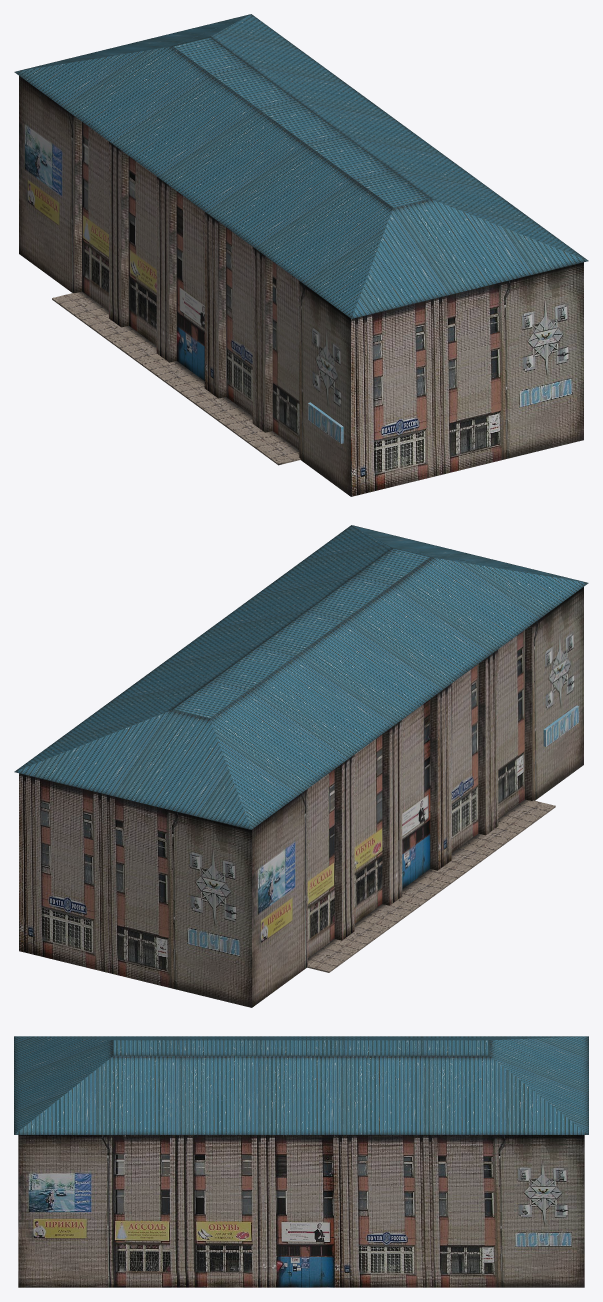
The model's file is sibir_poshta.FBX.
The picture shows the model from 3 angles, top to bottom: view 1: azimuth 30°, elevation 25°; view 2: azimuth 150°, elevation 25°; view 3: azimuth 270°, elevation 25°; orthographic projection. The views are drawn at different scales.
Parts seen in each view (by area): view 1: sibir_poshta; view 2: sibir_poshta; view 3: sibir_poshta.
Part boxes in pixels (box(x1,y1,x2,y2)): sibir_poshta: box(14, 14, 588, 496); sibir_poshta: box(14, 525, 588, 1007); sibir_poshta: box(14, 1036, 588, 1287).
Size of the model in its own units: 1556 by 3534 by 1297.
